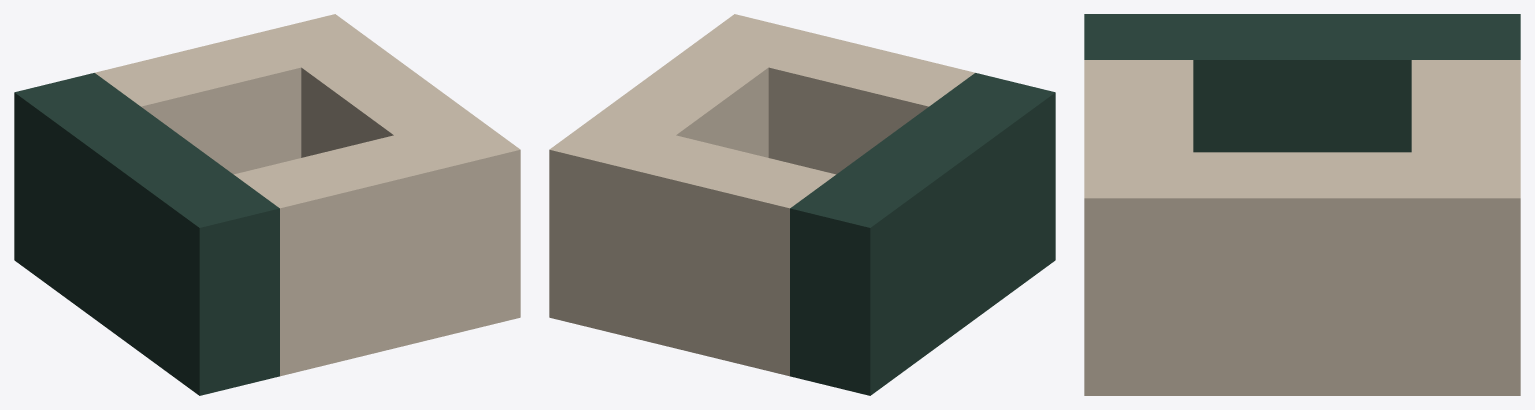
File: DUO.fbx
3 renders of one model, left to right at view 1: azimuth 30°, elevation 25°; view 2: azimuth 150°, elevation 25°; view 3: azimuth 270°, elevation 25°, orthographic. The views are drawn at different scales.
Parts seen in each view (by area): view 1: Cube.002, Cube, Cube.001; view 2: Cube.002, Cube, Cube.001; view 3: Cube.001, Cube.002, Cube.
Boxes of the visible parts, <box> form: Cube.002: <box>14,73,279,395</box>; Cube: <box>95,33,440,376</box>; Cube.001: <box>255,14,520,336</box>; Cube.002: <box>790,73,1055,395</box>; Cube: <box>629,33,974,376</box>; Cube.001: <box>549,14,814,336</box>; Cube.001: <box>1084,152,1520,395</box>; Cube.002: <box>1084,14,1520,152</box>; Cube: <box>1084,60,1520,152</box>.
Size of the model in its own units: 1600 by 800 by 1600.
